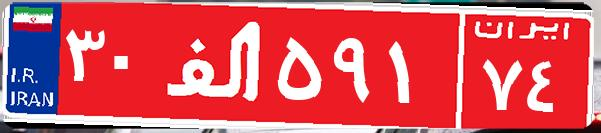0: (110, 28, 158, 105)
1: (385, 28, 445, 110)
3: (57, 26, 110, 107)
4: (525, 38, 570, 115)
5: (273, 28, 330, 110)
7: (475, 38, 525, 113)
9: (330, 28, 385, 110)
الف: (158, 15, 273, 115)
